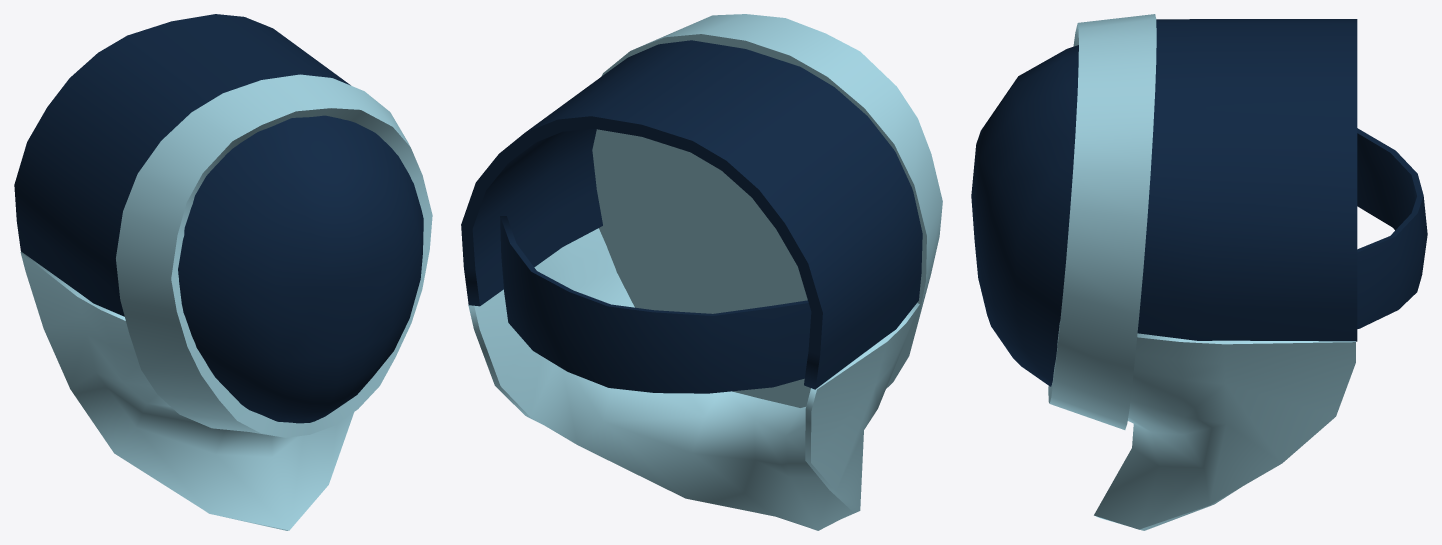
File: Fencer_protection.fbx
The picture shows the model from 3 angles, left to right: view 1: azimuth 30°, elevation 25°; view 2: azimuth 150°, elevation 25°; view 3: azimuth 270°, elevation 25°; orthographic projection. The views are drawn at different scales.
Visible parts, largest first — view 1: Fencer_protection; view 2: Fencer_protection; view 3: Fencer_protection.
Boxes of the visible parts, box(x1,y1,x2,y2) form: Fencer_protection: box(14, 14, 432, 530); Fencer_protection: box(461, 14, 942, 530); Fencer_protection: box(971, 14, 1427, 530).
Bounding box in the file's own units: 0.6221 × 0.8175 × 0.7016.
